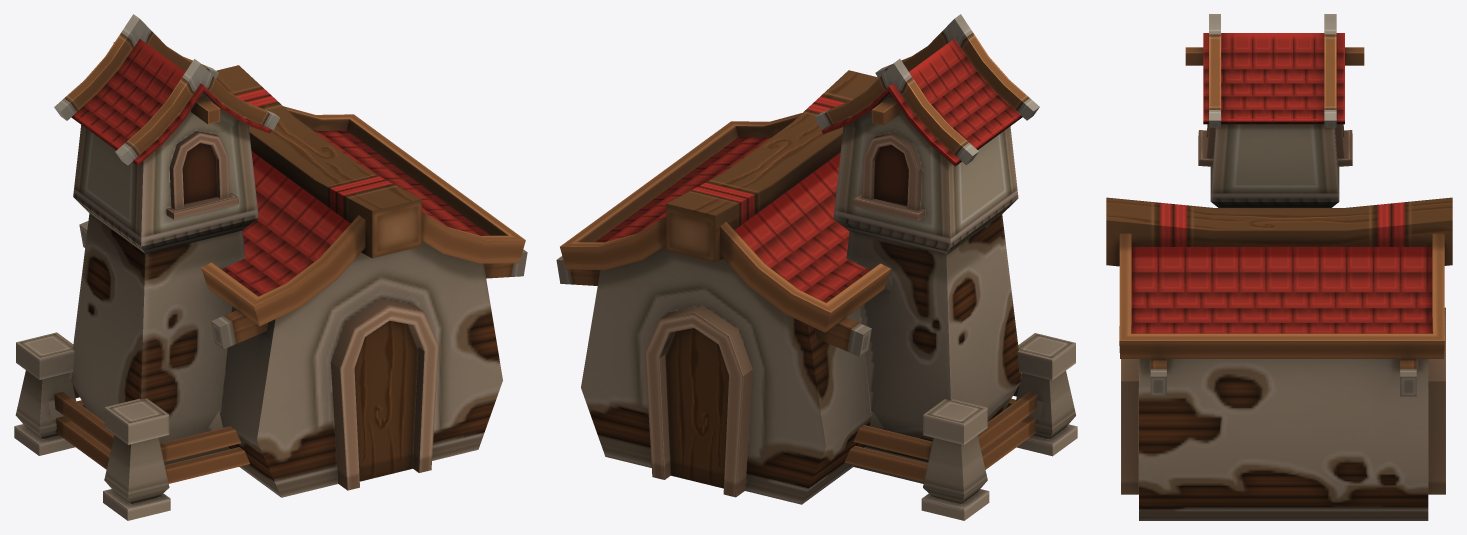
File: Barrack_Level2.FBX
3 views of the same model, side by side, from view 1: azimuth 30°, elevation 25°; view 2: azimuth 150°, elevation 25°; view 3: azimuth 270°, elevation 25° (orthographic). The views are drawn at different scales.
Parts seen in each view (by area): view 1: Barrack_Level2; view 2: Barrack_Level2; view 3: Barrack_Level2.
Part boxes in pixels (x1=…): Barrack_Level2: x1=14, y1=14, x2=527, y2=520; Barrack_Level2: x1=556, y1=14, x2=1077, y2=520; Barrack_Level2: x1=1106, y1=14, x2=1452, y2=520.
Size of the model in its own units: 80.39 by 82.19 by 65.14.
